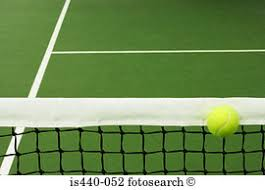tennis_ball: (206, 105, 238, 138)
